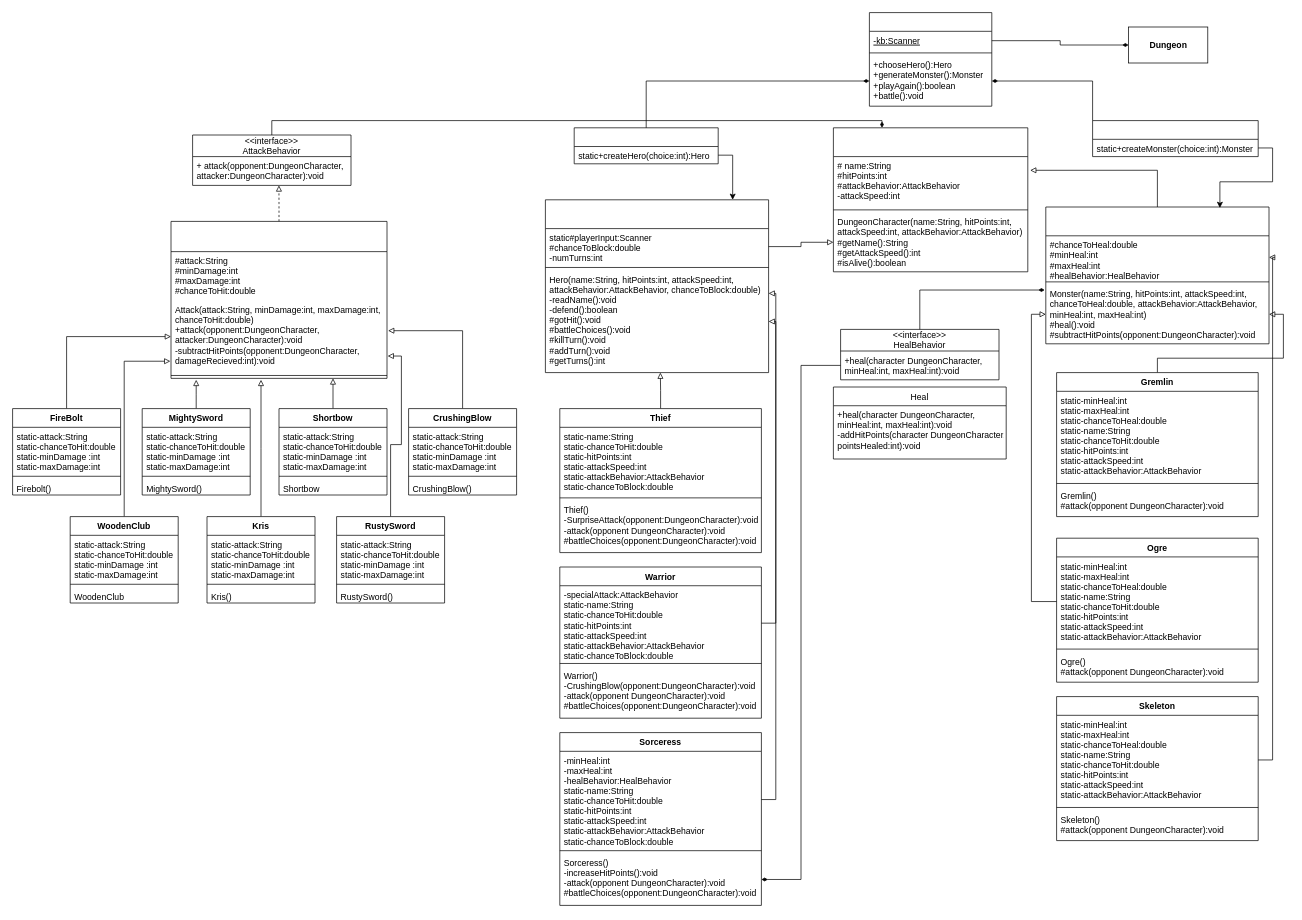
This 1302x920 diagram has some shape labels left out. The box of each missing label's shape, as (x1, y1, x2, y2) in pixels:
abstract Attack: (170, 221, 387, 378)
abstract DungeonCharacter: (833, 127, 1028, 272)
abstract Hero: (545, 199, 769, 373)
abstract Monster: (1045, 206, 1269, 344)
GameManager: (869, 12, 992, 106)
HeroFactory: (573, 127, 718, 164)
MonsterFactory: (1092, 120, 1258, 157)
